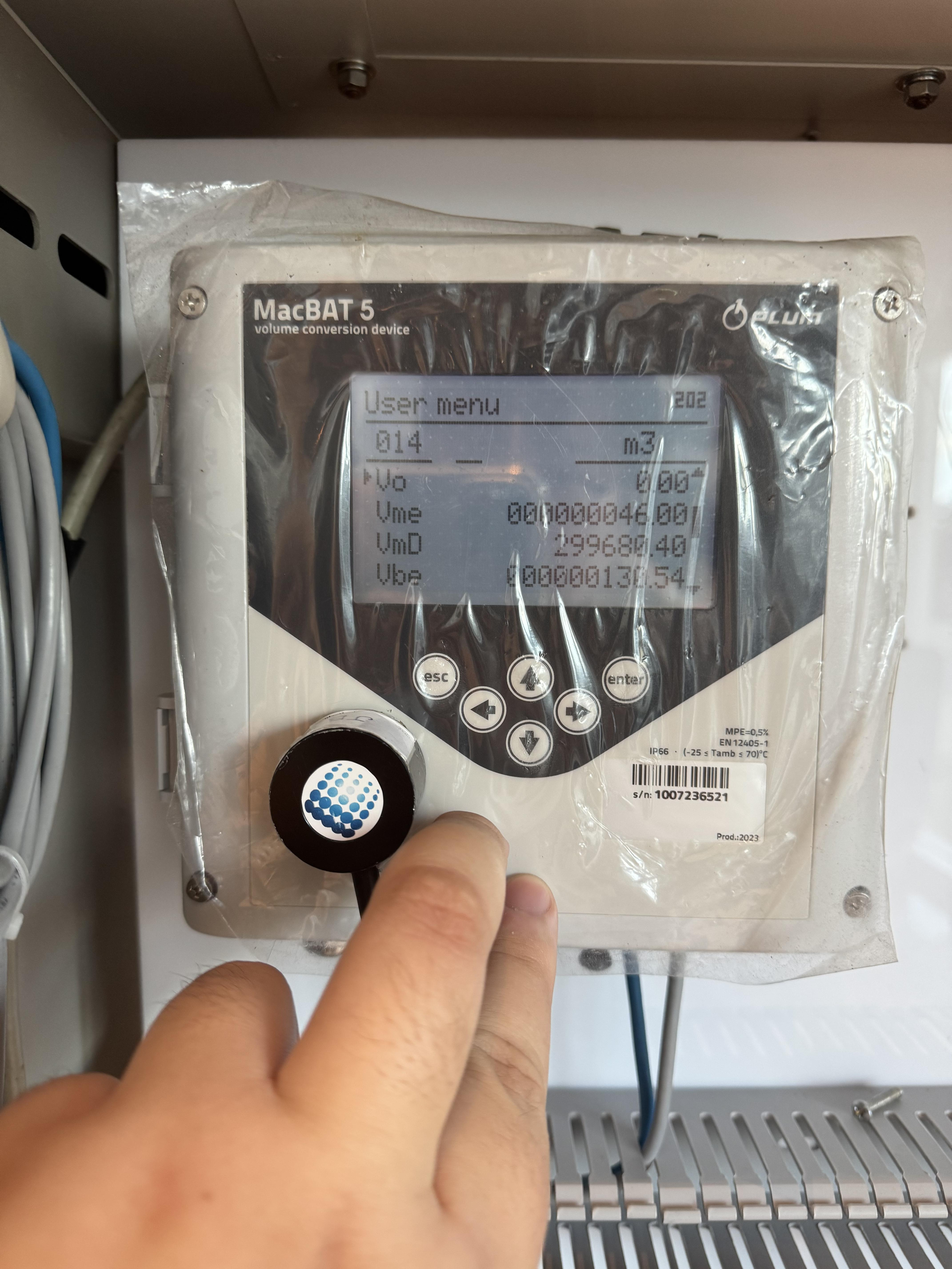digital_screen: (350, 372, 721, 606)
